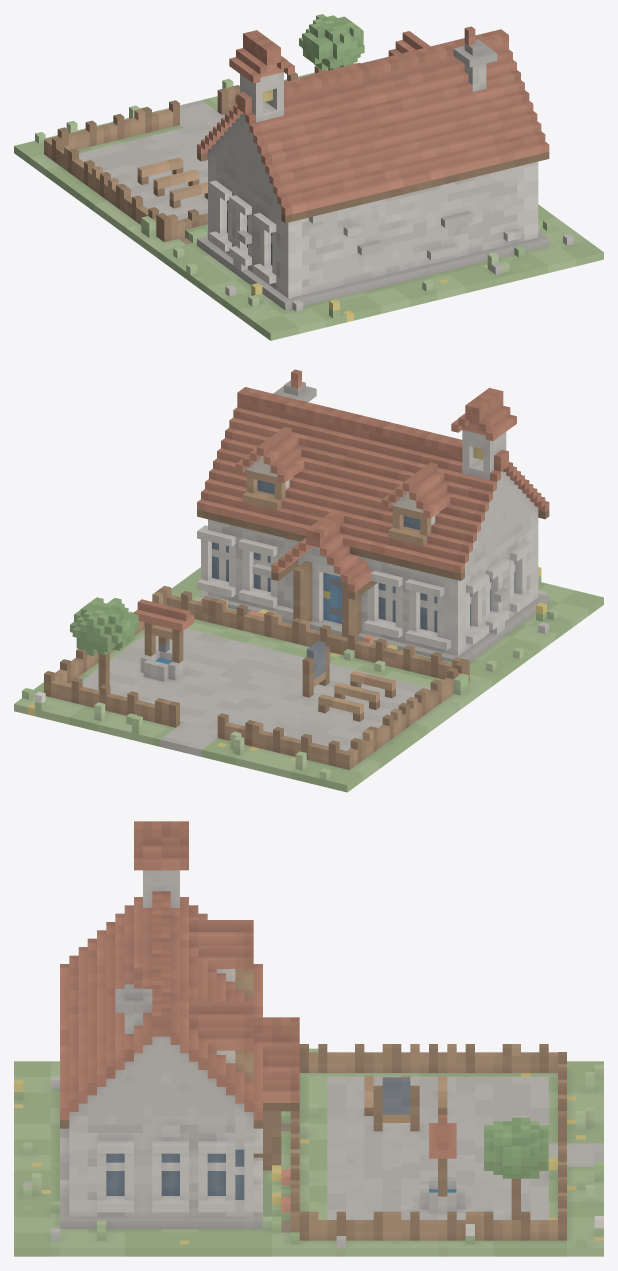
Rendered from school.glb.
3 renders of one model, top to bottom at view 1: azimuth 30°, elevation 25°; view 2: azimuth 150°, elevation 25°; view 3: azimuth 270°, elevation 25°, orthographic. The views are drawn at different scales.
Visible parts, largest first — view 1: school; view 2: school; view 3: school.
Boxes of the visible parts, x1=… form: school: x1=14, y1=14, x2=603, y2=340; school: x1=14, y1=369, x2=603, y2=792; school: x1=14, y1=821, x2=603, y2=1256.
Size of the model in its own units: 6 by 4.12 by 8.
